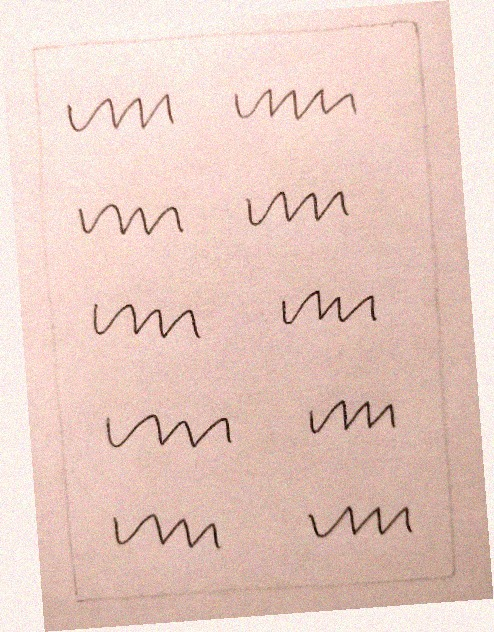text: (95, 396, 243, 472), (290, 487, 422, 560), (100, 497, 235, 567), (77, 288, 211, 356), (224, 71, 364, 136), (65, 188, 192, 255), (233, 178, 360, 238), (268, 276, 382, 342), (59, 84, 181, 142), (298, 386, 402, 447)
